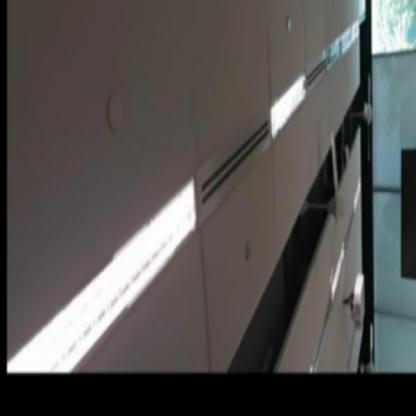light_on: (7, 167, 203, 373), (262, 66, 311, 147), (322, 226, 348, 310), (351, 170, 363, 219)
